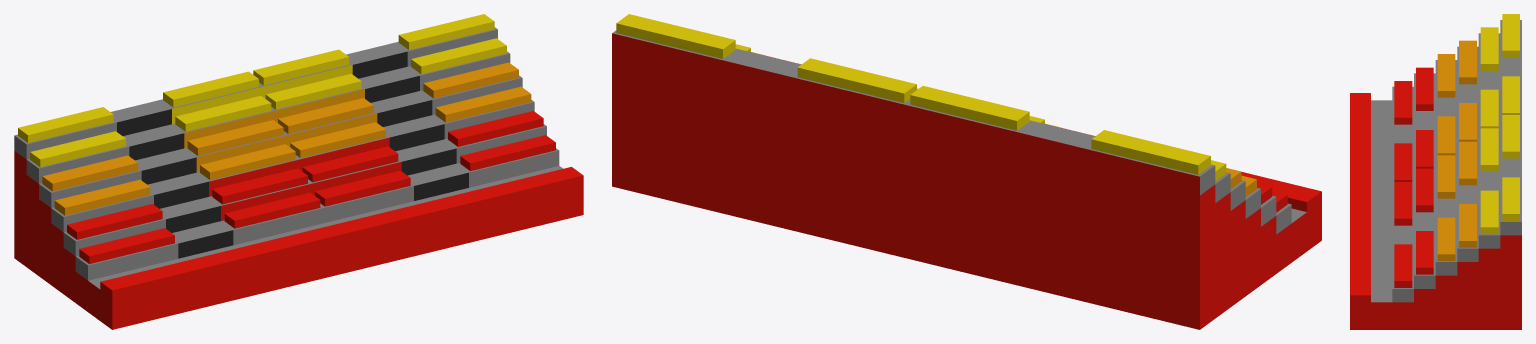
The model's file is Team1Bleachers.fbx.
3 renders of one model, left to right at view 1: azimuth 30°, elevation 25°; view 2: azimuth 150°, elevation 25°; view 3: azimuth 270°, elevation 25°, orthographic. The views are drawn at different scales.
Visible parts, largest first — view 1: Plane; view 2: Plane; view 3: Plane.
Boxes of the visible parts, box(x1,y1,x2,y2) form: Plane: box(14, 14, 583, 329); Plane: box(612, 14, 1321, 329); Plane: box(1350, 14, 1521, 329).
Bounding box in the file's own units: 3239 × 858 × 1165.
